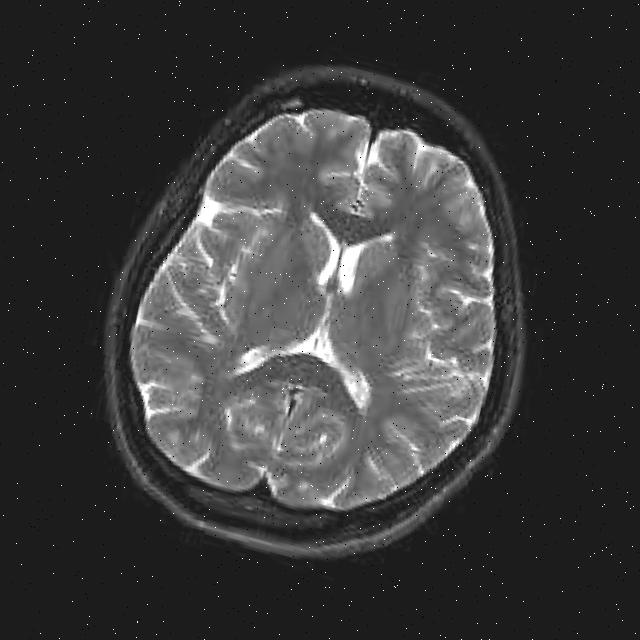NoTumor: (42, 11, 599, 613)
